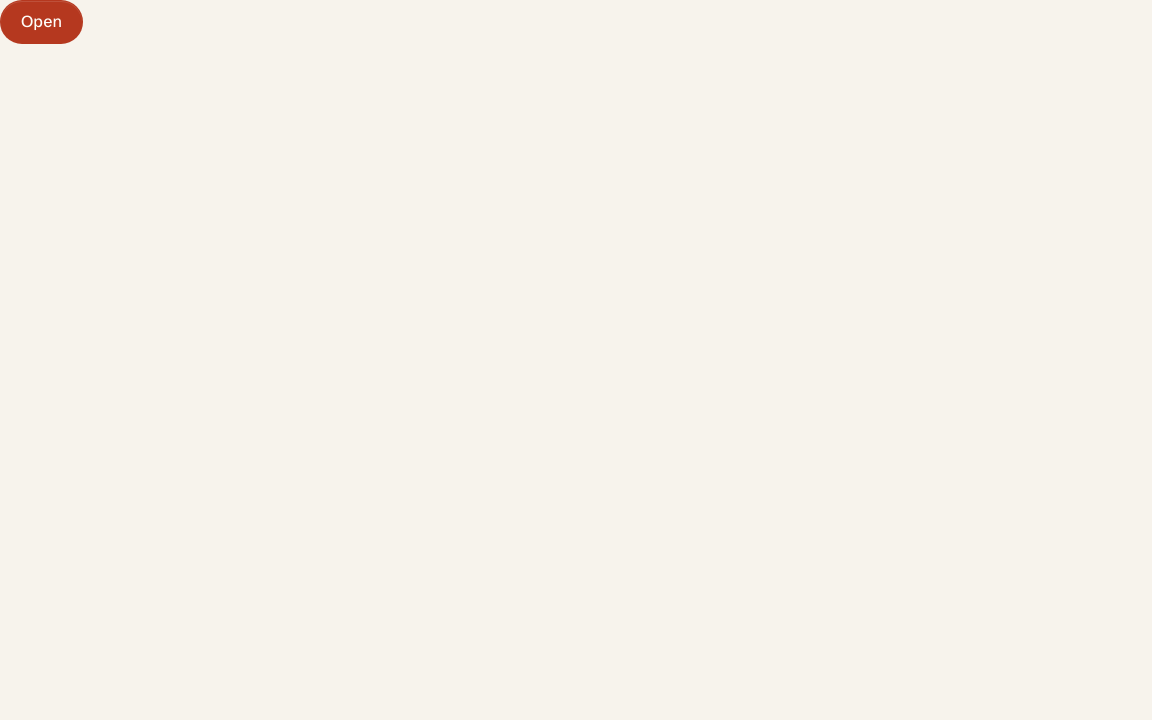
Test: Dialog › opens with a labelled dialog and a visible close button
Click the button "Open" at coordinates (42, 22), box top-left (0, 0), bottom-right (83, 44)
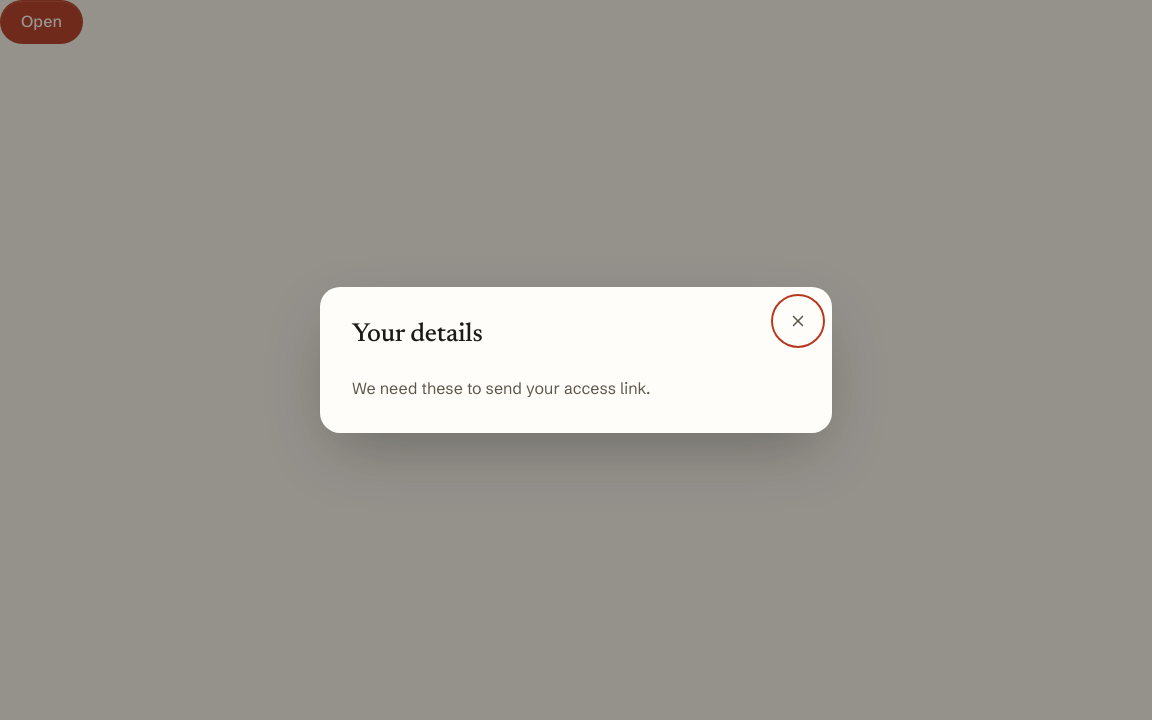
Expected: the dialog "Your details" is shown, top-left (320, 287), bottom-right (832, 433)
Expected: the button named "Close" is shown, top-left (776, 299), bottom-right (820, 343)
